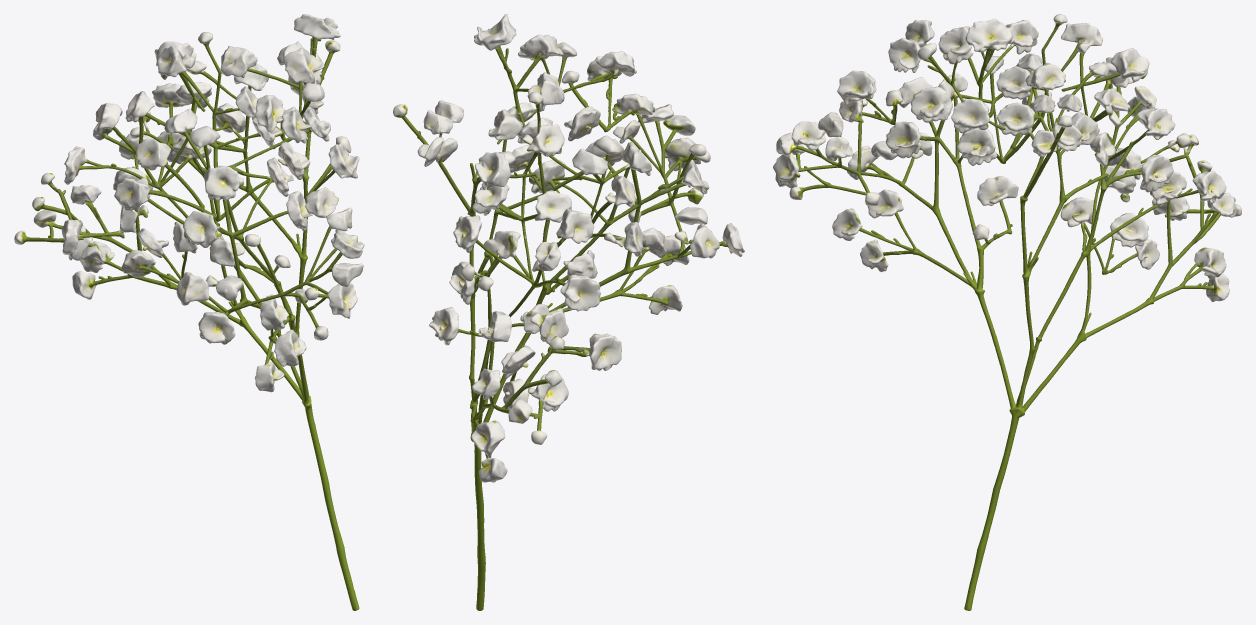
The model's file is Babies Breathe.glb.
3 renders of one model, left to right at view 1: azimuth 30°, elevation 25°; view 2: azimuth 150°, elevation 25°; view 3: azimuth 270°, elevation 25°, orthographic. The views are drawn at different scales.
Parts seen in each view (by area): view 1: tripo_node_c9edcab3-225b-4573-aa6c-aeabd08ea1c8; view 2: tripo_node_c9edcab3-225b-4573-aa6c-aeabd08ea1c8; view 3: tripo_node_c9edcab3-225b-4573-aa6c-aeabd08ea1c8.
Boxes of the visible parts, x1,y1,x2,y2 form: tripo_node_c9edcab3-225b-4573-aa6c-aeabd08ea1c8: (14, 14, 364, 610); tripo_node_c9edcab3-225b-4573-aa6c-aeabd08ea1c8: (393, 14, 744, 610); tripo_node_c9edcab3-225b-4573-aa6c-aeabd08ea1c8: (773, 14, 1241, 610).
Size of the model in its own units: 0.4397 by 1 by 0.7396.
Materials: 1 (1 with a texture image).
